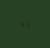four: (19, 20, 24, 28)
three: (25, 19, 30, 27)
